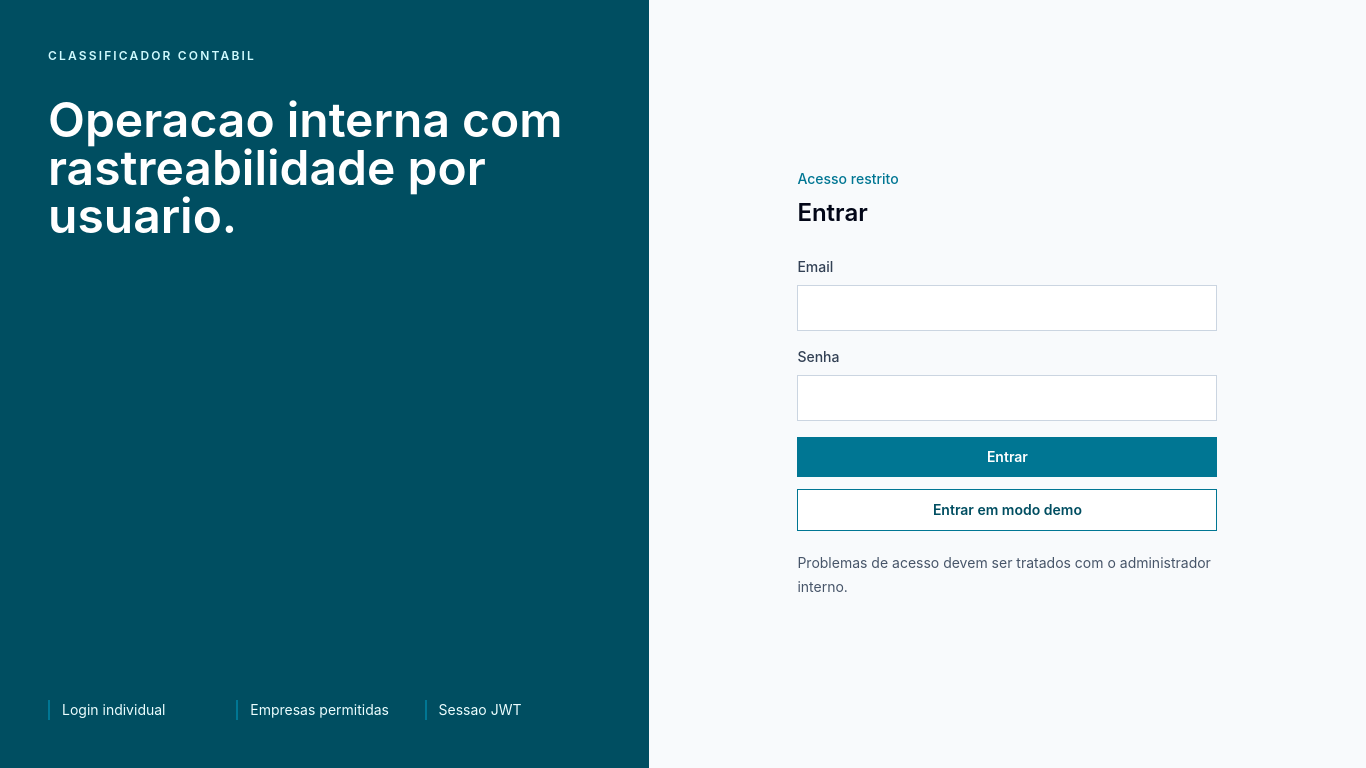
Scenario: LoginPage › exibe mensagem curta para credenciais invalidas
The width and height of the screenshot is (1366, 768).
In the field labelled "Email": (1007, 308) [797,285,1217,331], type "operador@interno.test"
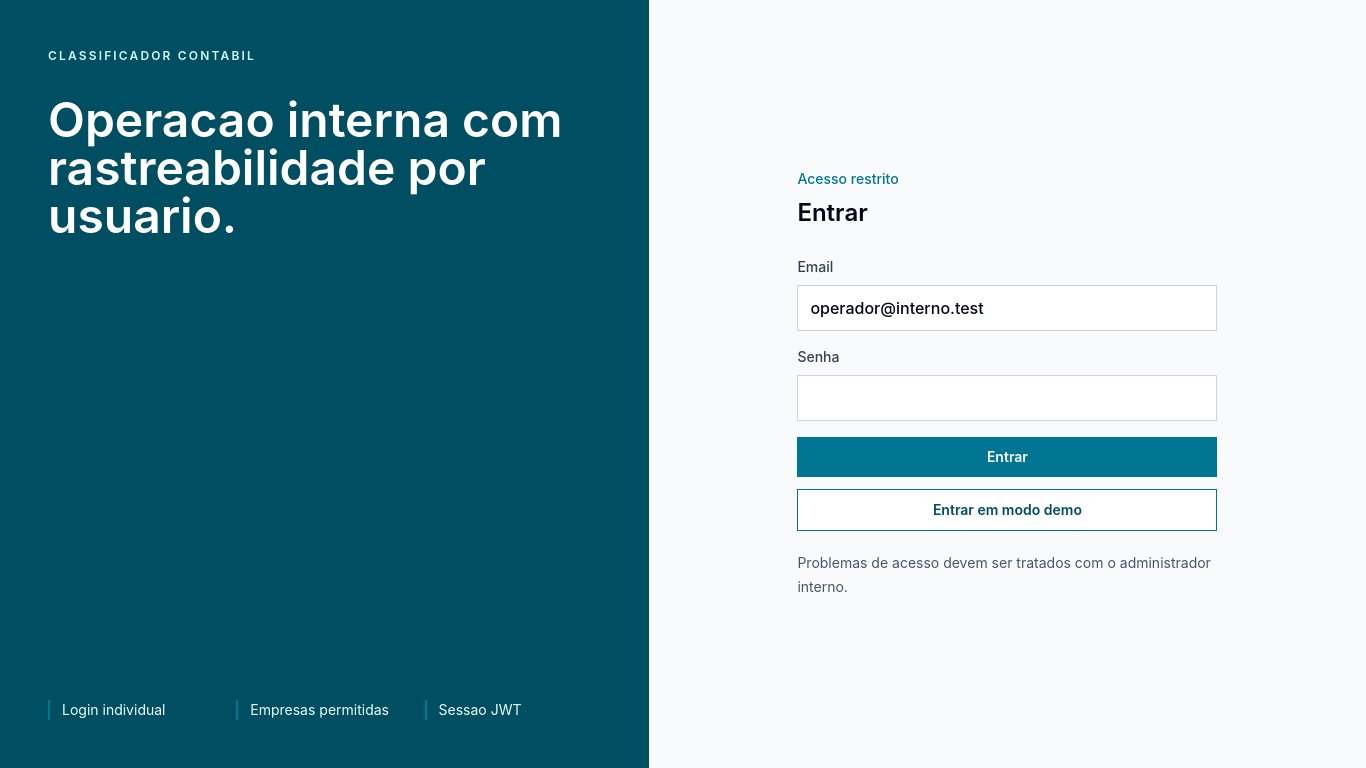
In the password field labelled "Senha": (1007, 398) [797,375,1217,421], type "senha-incorreta"
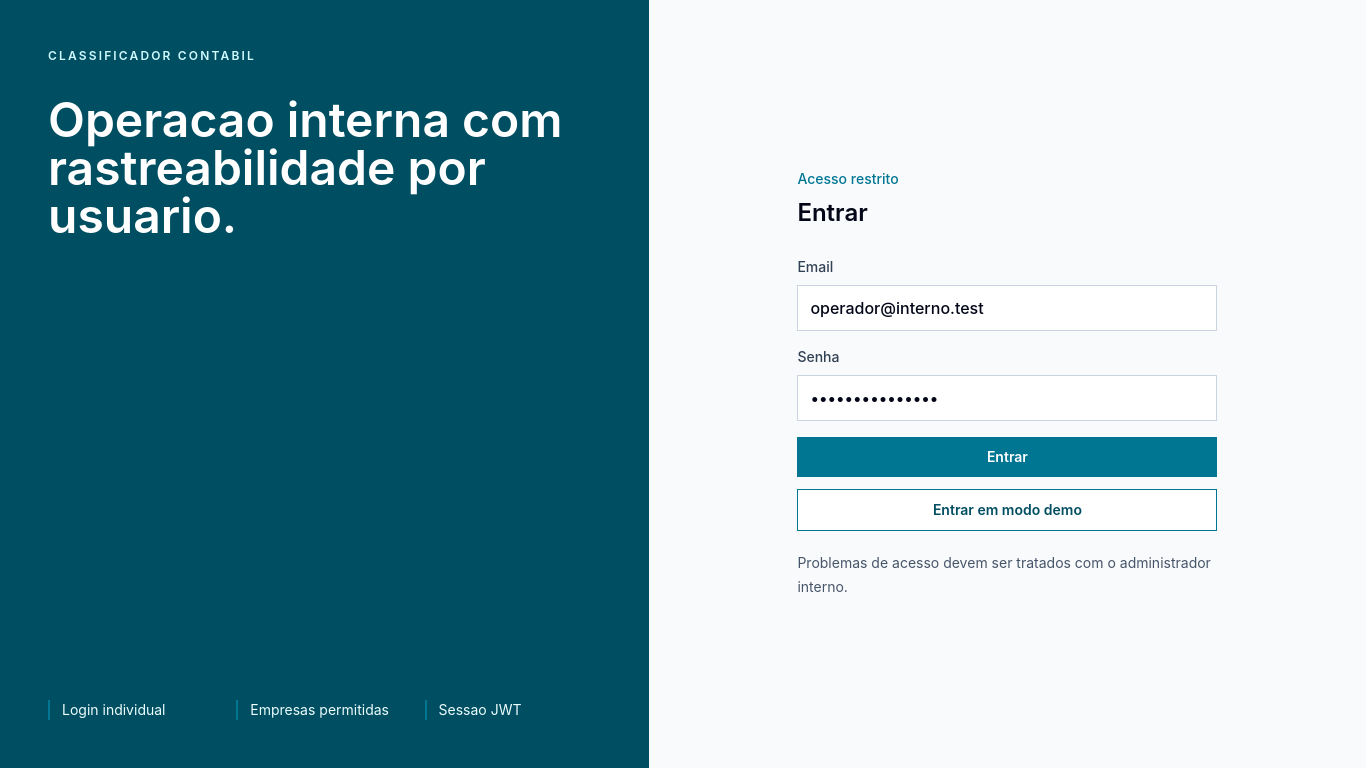
Click the button "Entrar": (1007, 457) [797,437,1217,477]
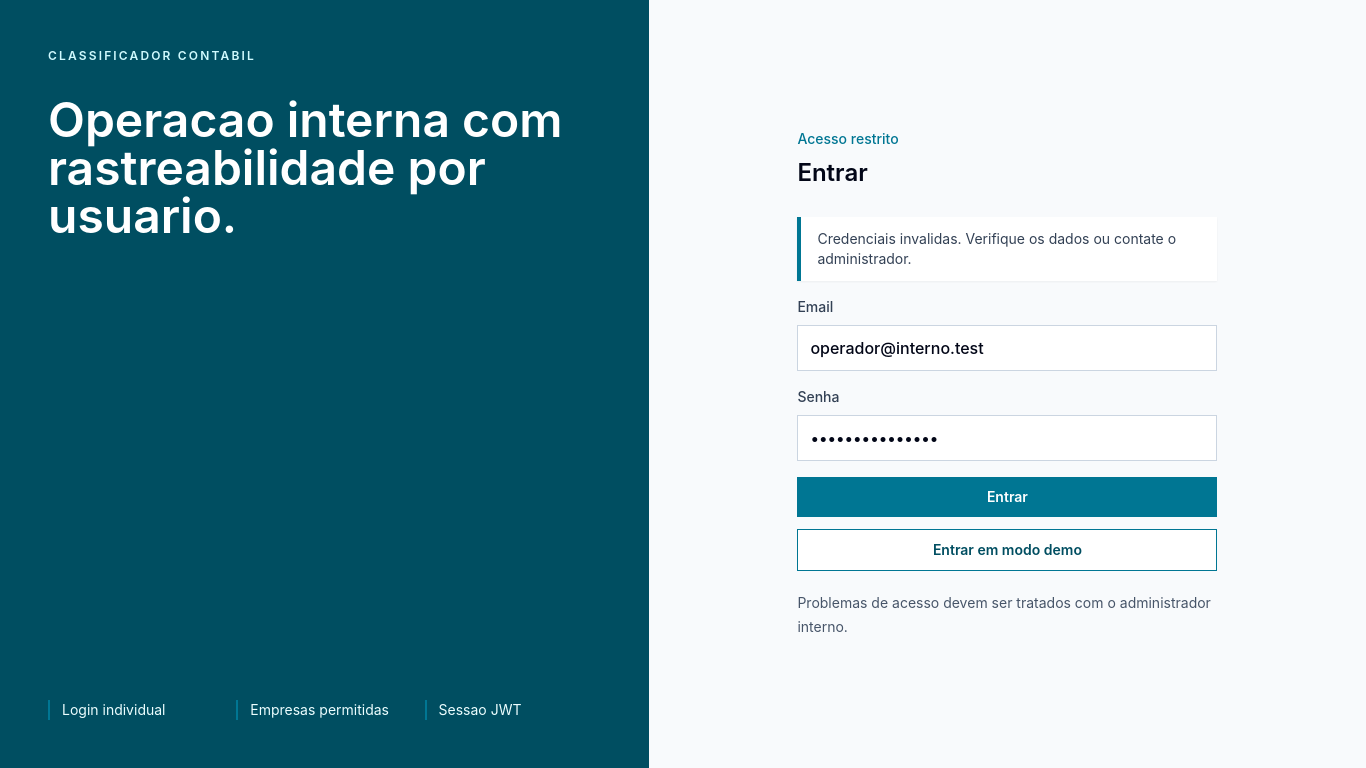
Result: the text "Credenciais invalidas. Verifique os dados ou contate o administrador." is shown at [797,217,1217,281]
